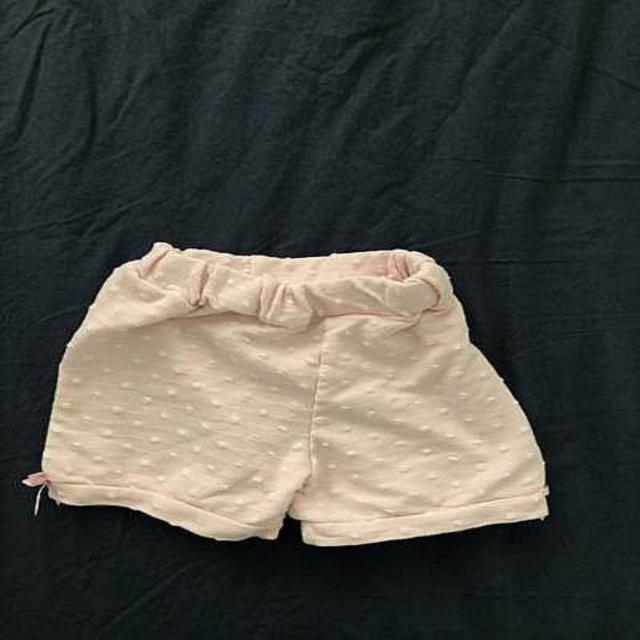SHORT: (18, 227, 573, 554)
